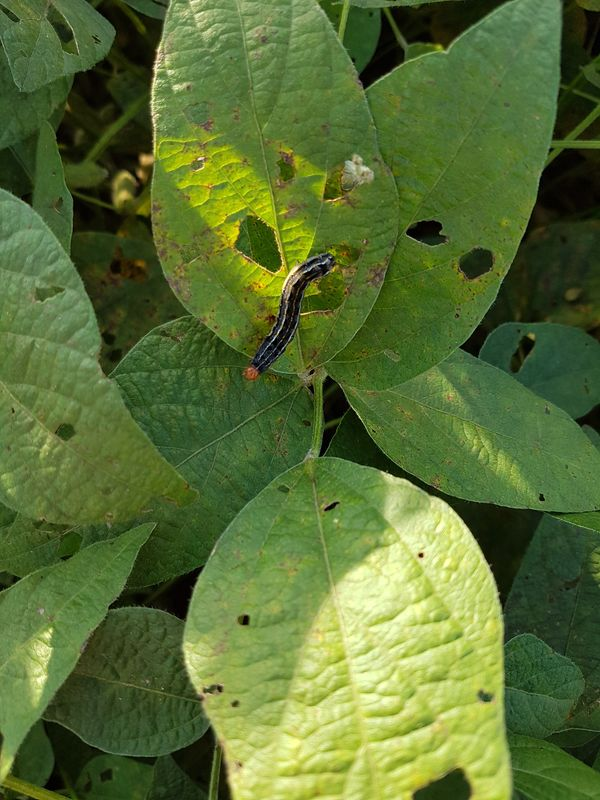Spodoptera_albula: (231, 245, 359, 389)
